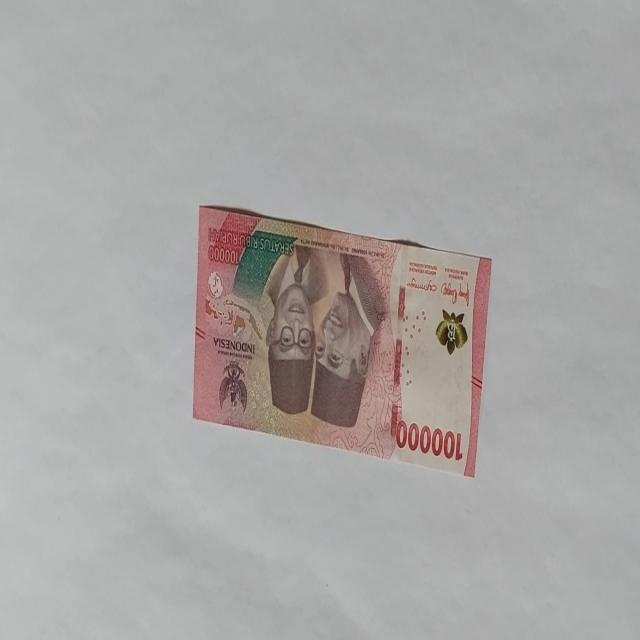seratus ribu rupiah: (192, 202, 492, 478)
